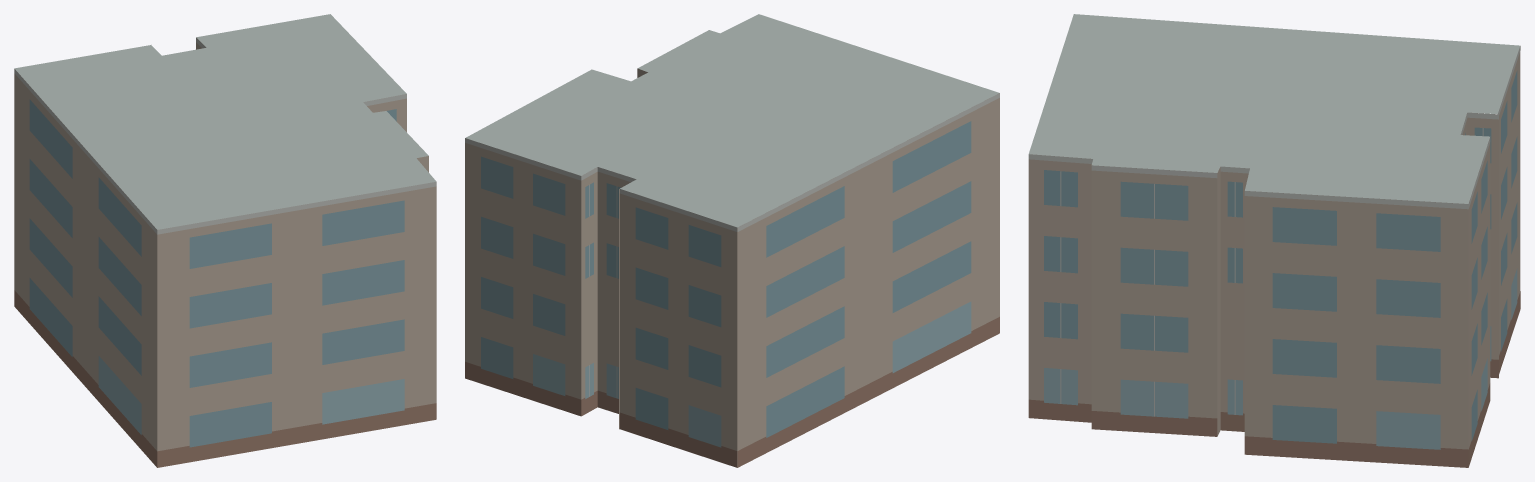
The model's file is survey-upis-32630200.glb.
3 renders of one model, left to right at view 1: azimuth 30°, elevation 25°; view 2: azimuth 150°, elevation 25°; view 3: azimuth 270°, elevation 25°, orthographic. The views are drawn at different scales.
Parts seen in each view (by area): view 1: survey-upis-32630200.tmp; view 2: survey-upis-32630200.tmp; view 3: survey-upis-32630200.tmp.
Part boxes in pixels (<box>): survey-upis-32630200.tmp: <box>14,14,436,467</box>; survey-upis-32630200.tmp: <box>465,14,999,467</box>; survey-upis-32630200.tmp: <box>1028,14,1520,467</box>.
Size of the model in its own units: 19.16 by 12.4 by 20.96.
